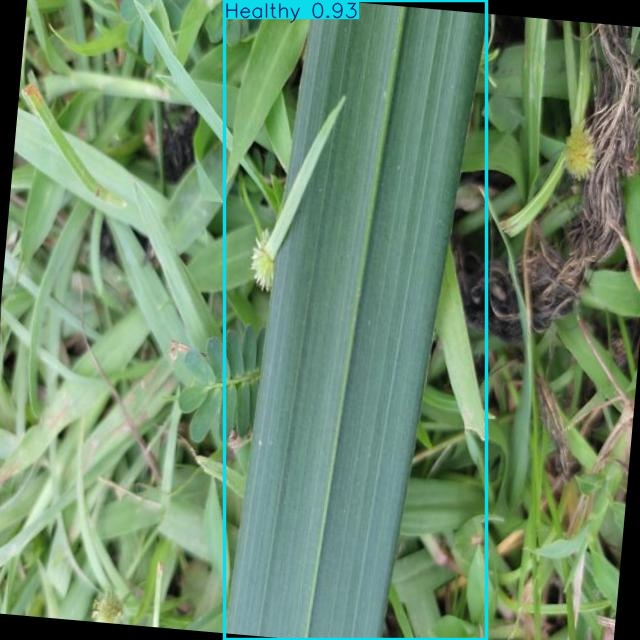Healthy: (225, 0, 487, 640)
